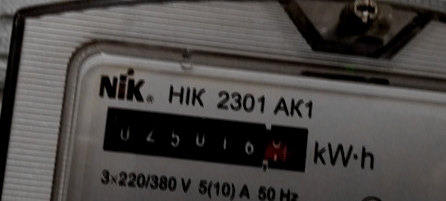0: (193, 124, 209, 148), (117, 119, 132, 142), (269, 128, 283, 149)
1: (218, 126, 231, 152), (270, 151, 279, 162)
2: (143, 119, 159, 143)
5: (168, 125, 181, 147)
6: (241, 131, 257, 158)
screen: (92, 94, 320, 181)
